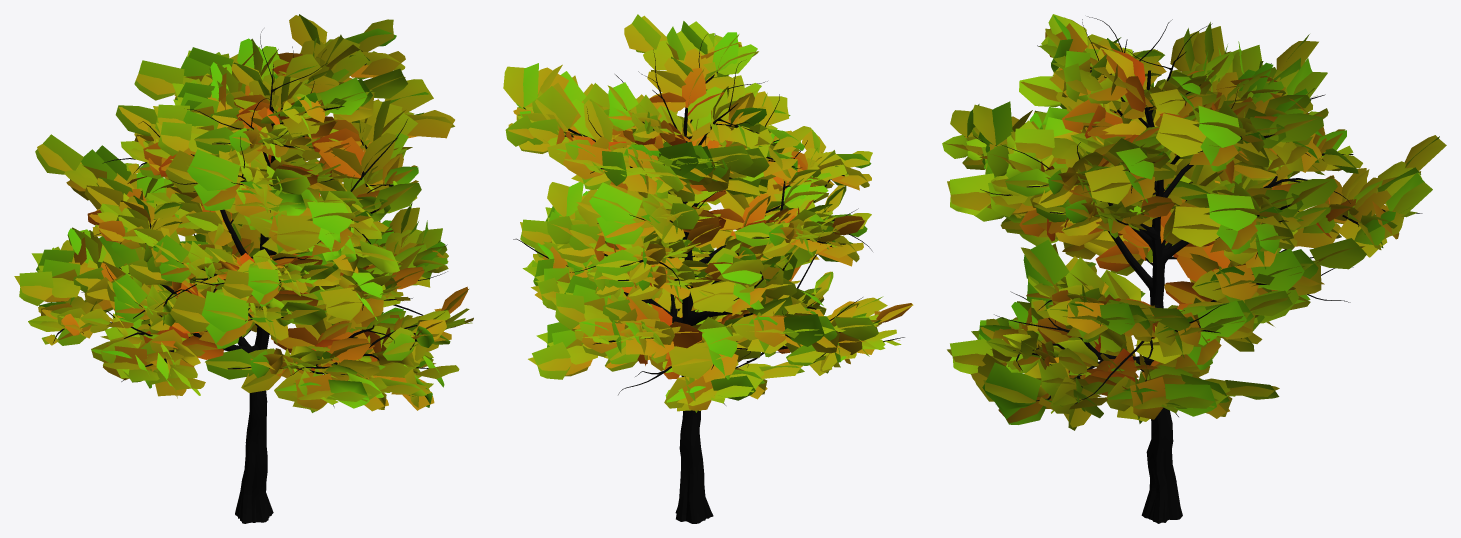
The model's file is Tree big 1.glb.
The picture shows the model from 3 angles, left to right: view 1: azimuth 30°, elevation 25°; view 2: azimuth 150°, elevation 25°; view 3: azimuth 270°, elevation 25°; orthographic projection. The views are drawn at different scales.
Parts seen in each view (by area): view 1: Tree big 1; view 2: Tree big 1; view 3: Tree big 1.
Boxes of the visible parts, bbox=[...] form: Tree big 1: bbox=[14, 14, 473, 523]; Tree big 1: bbox=[503, 14, 913, 523]; Tree big 1: bbox=[942, 14, 1446, 523].
Size of what is drawn, in the model's own units: 58.87 by 67.92 by 61.04.
